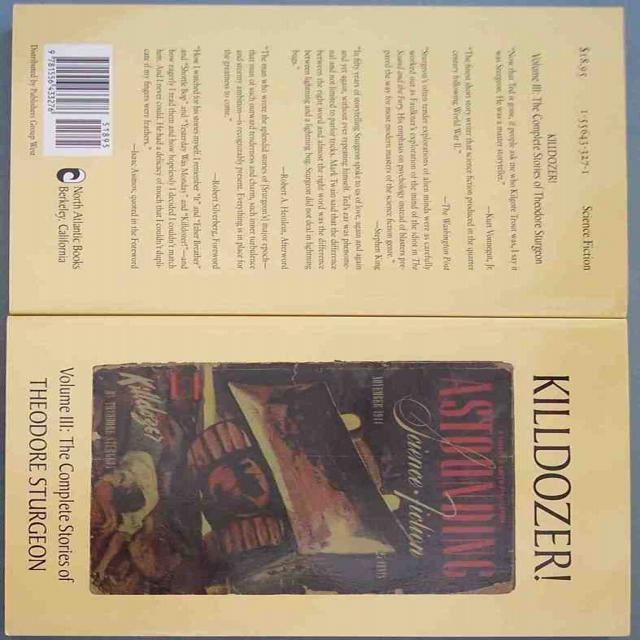book: (1, 316, 640, 640), (6, 2, 634, 322)
